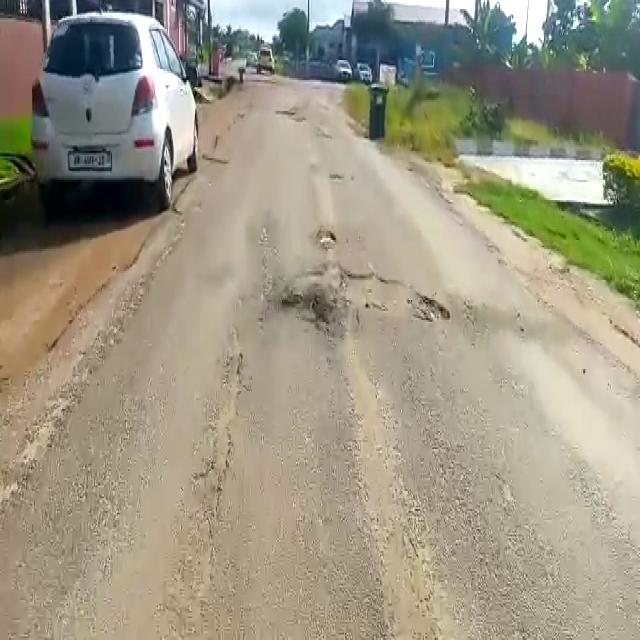Pothole: (310, 266, 456, 324), (279, 284, 336, 336), (315, 230, 338, 250)
